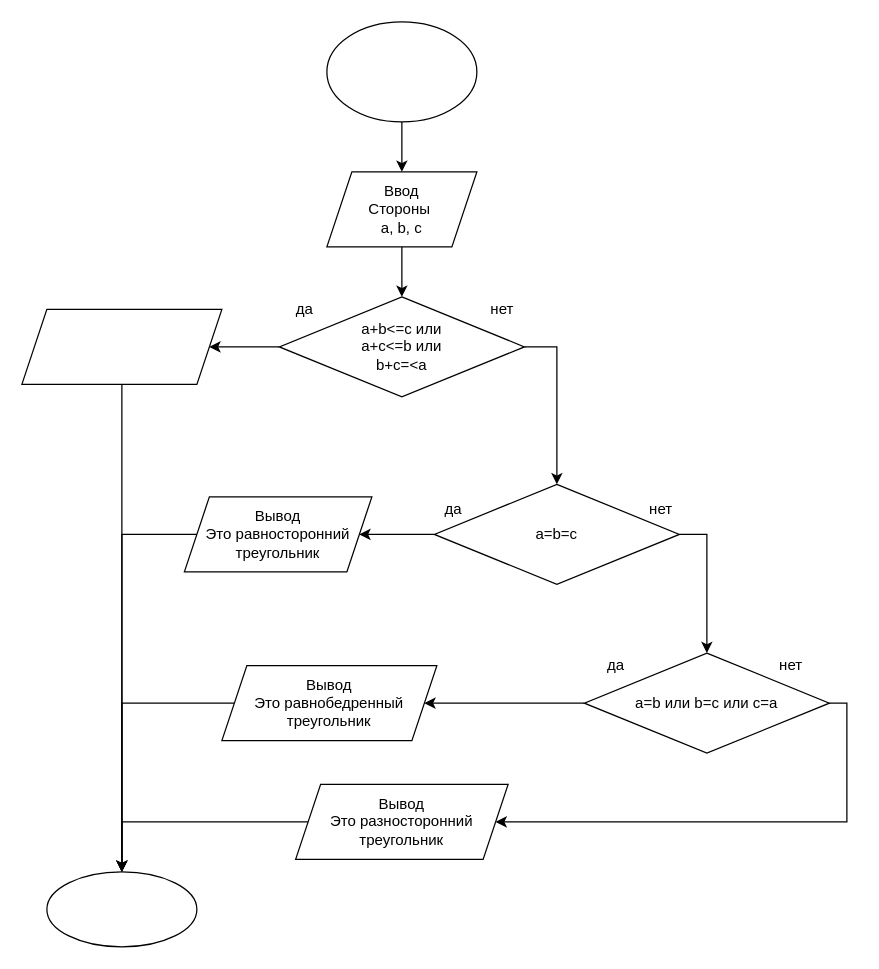
This 879x969 diagram has some shape labels left out. The shapes that lost their labels are listed below. From the top down, each one's centre as x and y in pixels, then its label:
(401,71): Начало
(121,346): Вывод Такого треугольника не существует
(121,909): Конец
